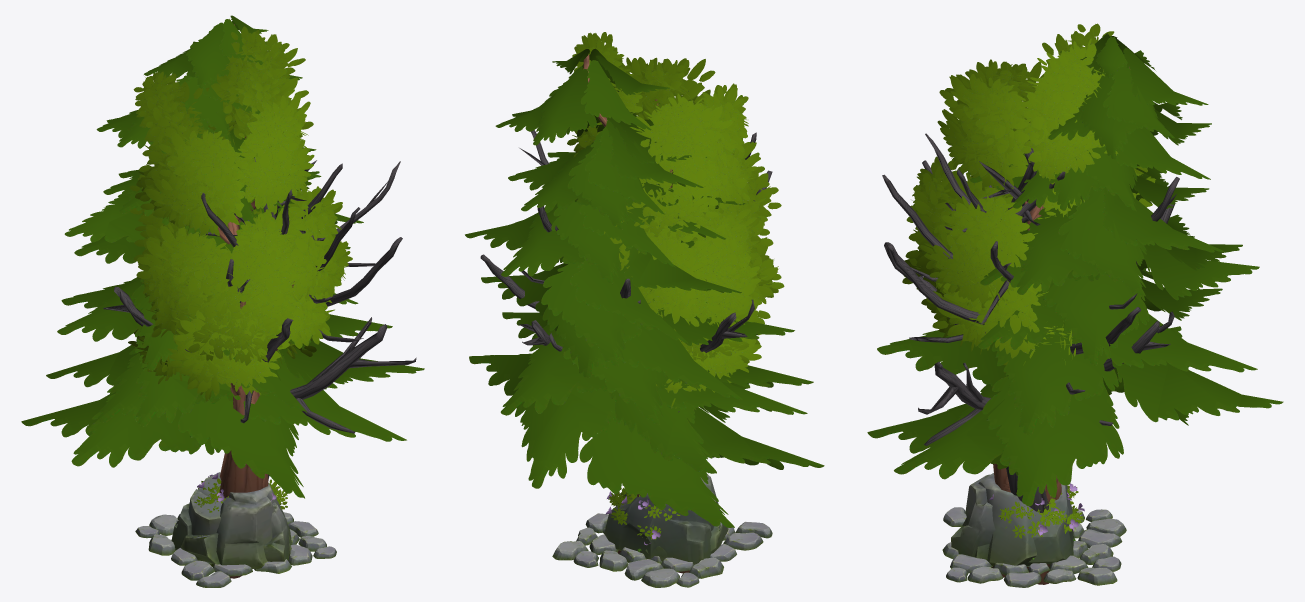
The model's file is nature.glb.
3 views of the same model, side by side, from view 1: azimuth 30°, elevation 25°; view 2: azimuth 150°, elevation 25°; view 3: azimuth 270°, elevation 25° (orthographic). The views are drawn at different scales.
Visible parts, largest first — view 1: Tree_Common_1_Mesh, Tree_Pine_Mesh, Tree_Common_2_Mesh, Tree_Dead_Mesh, Rock_1_Mesh, RockPath_Round_Mesh, Rock_2_Mesh, Rock_3_Mesh, Bush_Mesh; view 2: Tree_Pine_Mesh, Tree_Common_1_Mesh, Tree_Common_2_Mesh, RockPath_Round_Mesh, Rock_2_Mesh, Tree_Dead_Mesh, Bush_Mesh, Rock_1_Mesh; view 3: Tree_Pine_Mesh, Tree_Common_1_Mesh, Tree_Dead_Mesh, RockPath_Round_Mesh, Tree_Common_2_Mesh, Rock_1_Mesh, Rock_2_Mesh, Rock_3_Mesh, Bush_Mesh.
Boxes of the visible parts, <box> form: Tree_Common_1_Mesh: <box>133,26,352,497</box>; Tree_Pine_Mesh: <box>21,15,424,498</box>; Tree_Common_2_Mesh: <box>128,174,340,578</box>; Tree_Dead_Mesh: <box>103,158,416,480</box>; Rock_1_Mesh: <box>180,483,291,568</box>; RockPath_Round_Mesh: <box>135,512,336,587</box>; Rock_2_Mesh: <box>171,472,223,561</box>; Rock_3_Mesh: <box>210,502,289,566</box>; Bush_Mesh: <box>194,478,287,512</box>; Tree_Pine_Mesh: <box>465,48,824,527</box>; Tree_Common_1_Mesh: <box>567,32,781,552</box>; Tree_Common_2_Mesh: <box>604,203,784,573</box>; RockPath_Round_Mesh: <box>552,513,772,587</box>; Rock_2_Mesh: <box>604,491,716,565</box>; Tree_Dead_Mesh: <box>480,130,772,412</box>; Bush_Mesh: <box>608,484,680,539</box>; Rock_1_Mesh: <box>624,474,728,561</box>; Tree_Pine_Mesh: <box>867,32,1283,506</box>; Tree_Common_1_Mesh: <box>902,23,1147,577</box>; Tree_Dead_Mesh: <box>882,133,1179,512</box>; RockPath_Round_Mesh: <box>942,507,1126,587</box>; Tree_Common_2_Mesh: <box>904,168,1155,584</box>; Rock_1_Mesh: <box>962,473,1073,566</box>; Rock_2_Mesh: <box>1028,484,1073,564</box>; Rock_3_Mesh: <box>951,502,995,557</box>; Bush_Mesh: <box>998,485,1084,538</box>.
Size of the model in its own units: 5.14 by 7.09 by 4.98.
12 materials, 10 textured.
